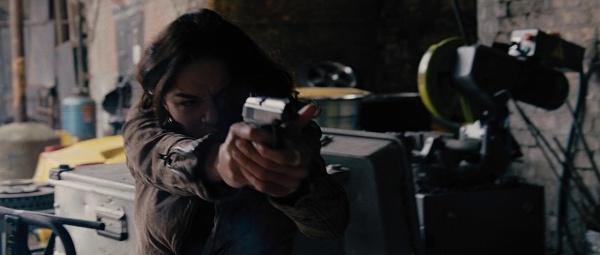Gun: (241, 94, 303, 132)
